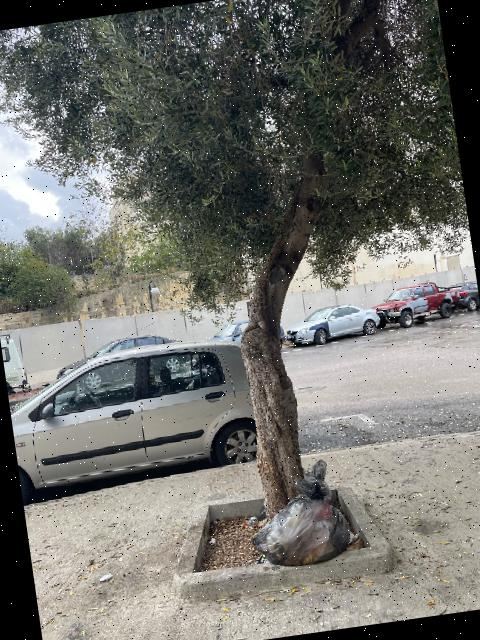Recyclable -Grey-: (252, 460, 350, 566)
